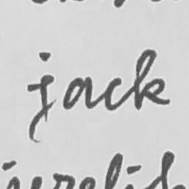a: (61, 73, 94, 112)
c: (102, 75, 123, 113)
j: (24, 73, 59, 146)
k: (130, 44, 172, 112)
